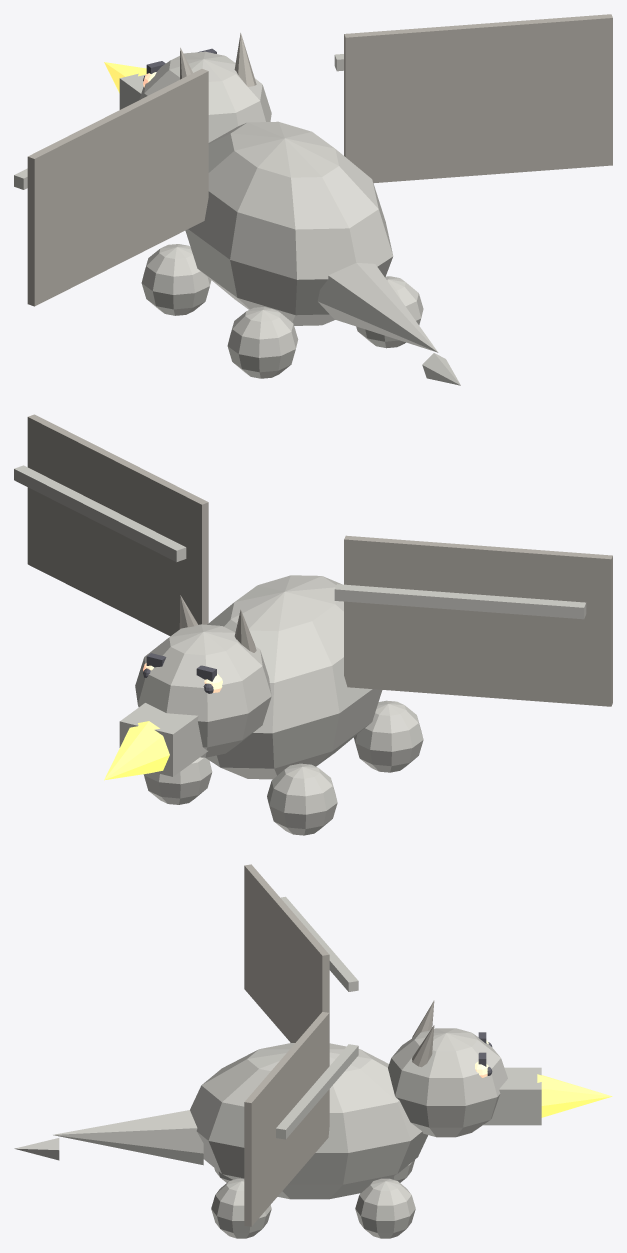
File: skeleton_dragons.glb
3 renders of one model, top to bottom at view 1: azimuth 30°, elevation 25°; view 2: azimuth 150°, elevation 25°; view 3: azimuth 270°, elevation 25°, orthographic. The views are drawn at different scales.
Visible parts, largest first — view 1: skeleton_dragons; view 2: skeleton_dragons; view 3: skeleton_dragons.
Part boxes in pixels (bbox=[...]): skeleton_dragons: bbox=[14, 14, 612, 385]; skeleton_dragons: bbox=[14, 414, 612, 835]; skeleton_dragons: bbox=[14, 864, 612, 1238].
Size of the model in its own units: 3.73 by 1.65 by 3.95.
